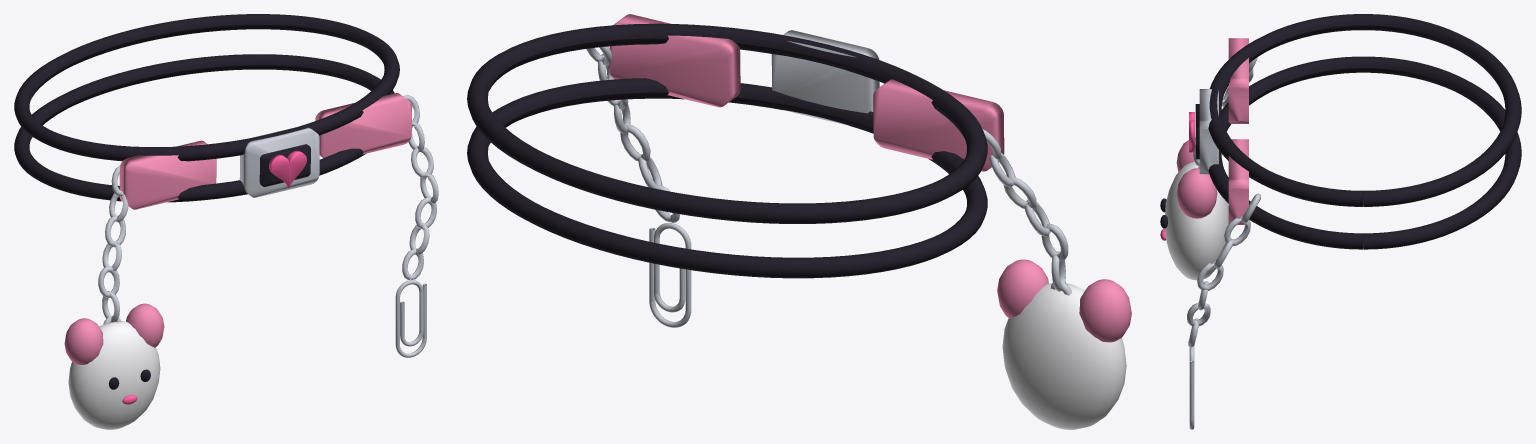
File: pixel_belt_and_charms.glb
3 renders of one model, left to right at view 1: azimuth 30°, elevation 25°; view 2: azimuth 150°, elevation 25°; view 3: azimuth 270°, elevation 25°, orthographic. The views are drawn at different scales.
Visible parts, largest first — view 1: pixel_belt_and_charms; view 2: pixel_belt_and_charms; view 3: pixel_belt_and_charms.
Part boxes in pixels (x1=…): pixel_belt_and_charms: x1=14, y1=14, x2=438, y2=429; pixel_belt_and_charms: x1=467, y1=14, x2=1131, y2=429; pixel_belt_and_charms: x1=1160, y1=14, x2=1521, y2=429.
Bounding box in the file's own units: 0.475 × 0.2826 × 0.354.
